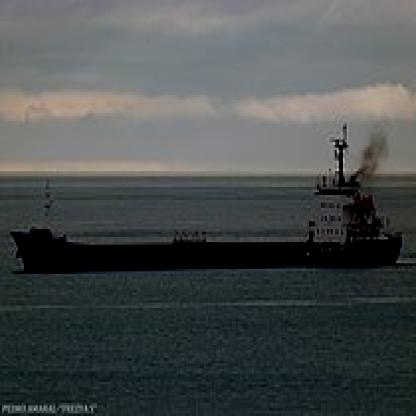Tanker: (12, 158, 402, 276)
